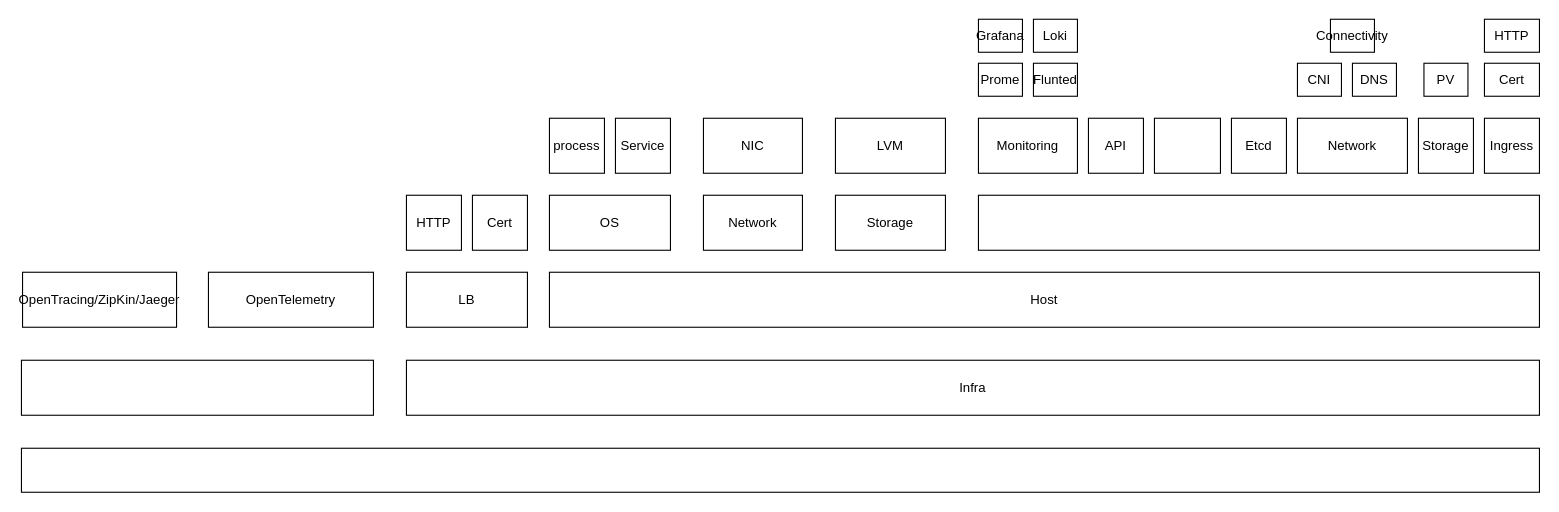
Some shapes in this 1559 by 512 pixel diagram are drawn without their labels. The centre of each missing label's shape, as x and y in pixels:
App: (196,387)
Controller: (1186,145)
Kubernetes: (1258,222)
Log & Metrics: (779,469)
